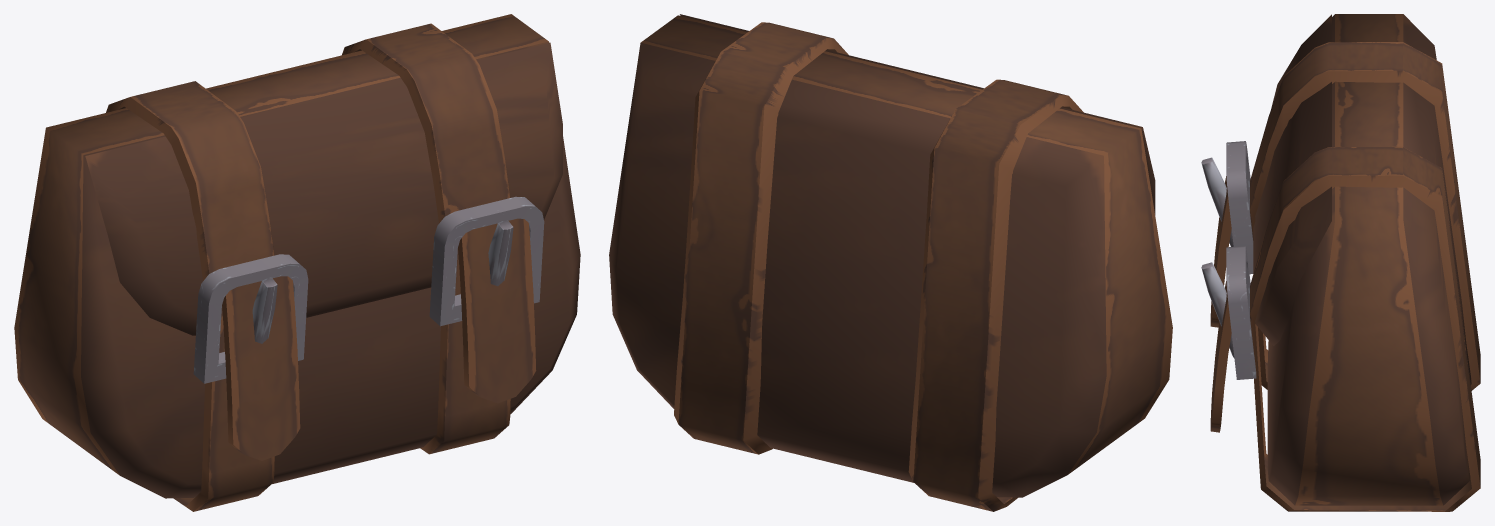
Rendered from pouch_large.glb.
The picture shows the model from 3 angles, left to right: view 1: azimuth 30°, elevation 25°; view 2: azimuth 150°, elevation 25°; view 3: azimuth 270°, elevation 25°; orthographic projection. The views are drawn at different scales.
Visible parts, largest first — view 1: Pouch_Large; view 2: Pouch_Large; view 3: Pouch_Large.
Part boxes in pixels (bbox=[...]): Pouch_Large: bbox=[14, 14, 580, 511]; Pouch_Large: bbox=[609, 14, 1172, 511]; Pouch_Large: bbox=[1201, 14, 1480, 511].
Bounding box in the file's own units: 0.2255 × 0.1591 × 0.1198.
Materials: 2 (2 with a texture image).
